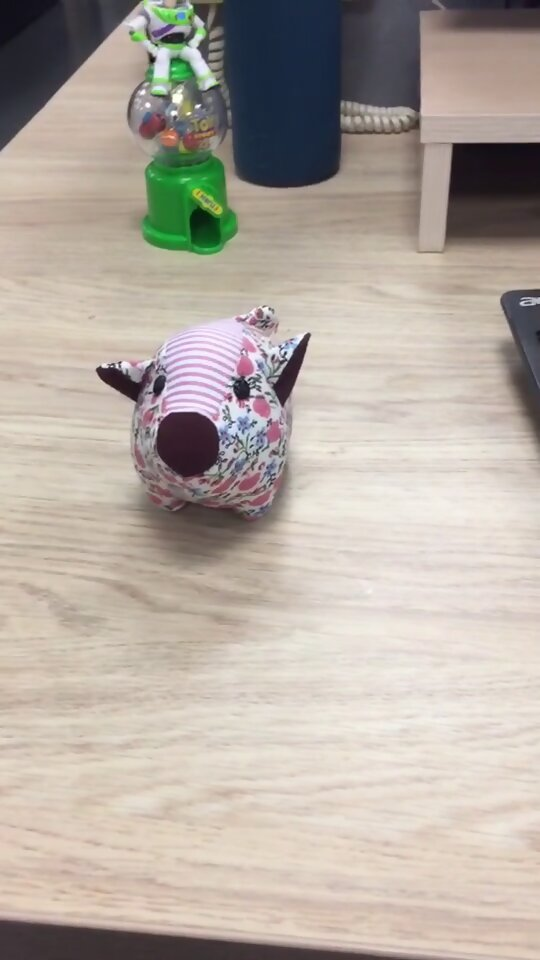pig: (90, 301, 318, 523)
